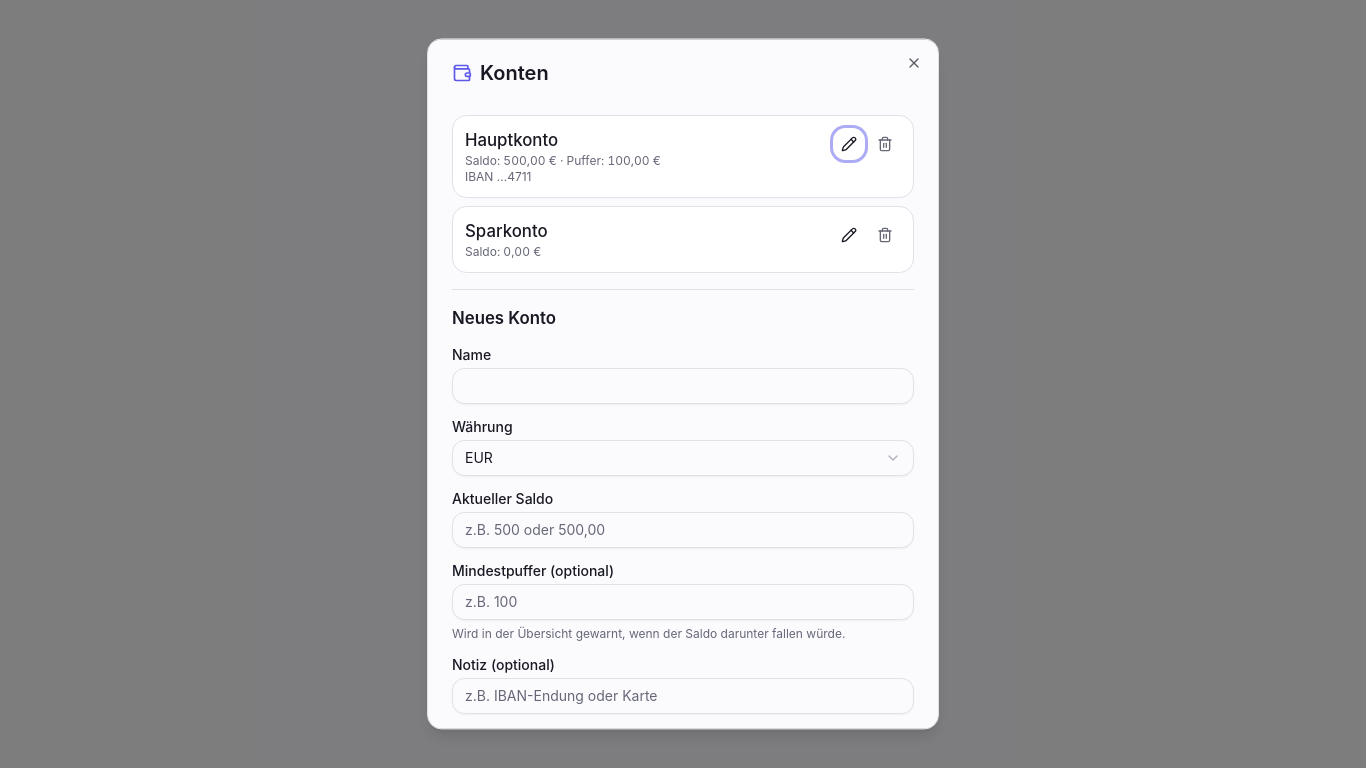
Test case: AccountsDialog › startet den Edit-Mode mit vorgefüllten Werten beim Klick auf Bearbeiten
This screenshot has width=1366, height=768.
Click the button named "Konto Hauptkonto bearbeiten": (849,144) [833, 128, 865, 160]
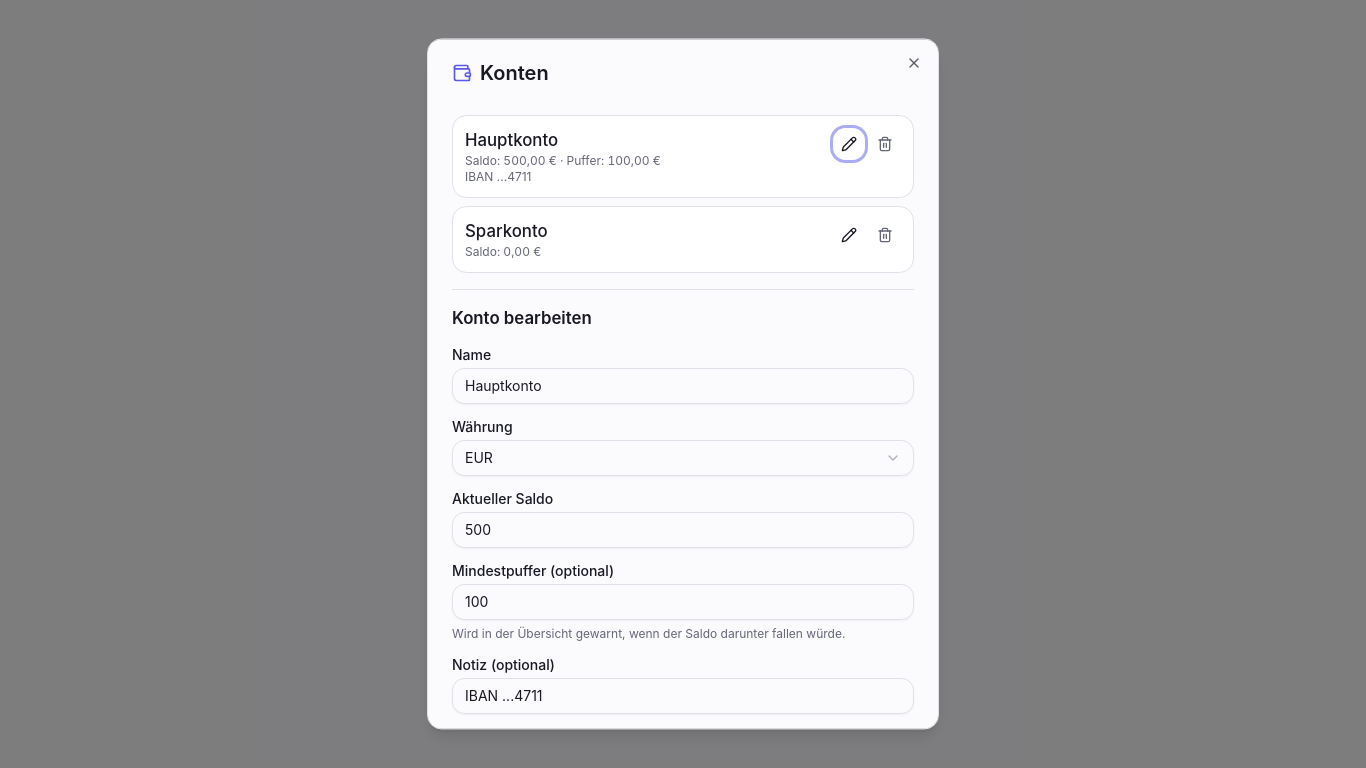
Expected: the heading "Konto bearbeiten" is shown, [452, 309, 592, 329]
Expected: the field labelled "Name" holds "Hauptkonto", [452, 368, 914, 404]
